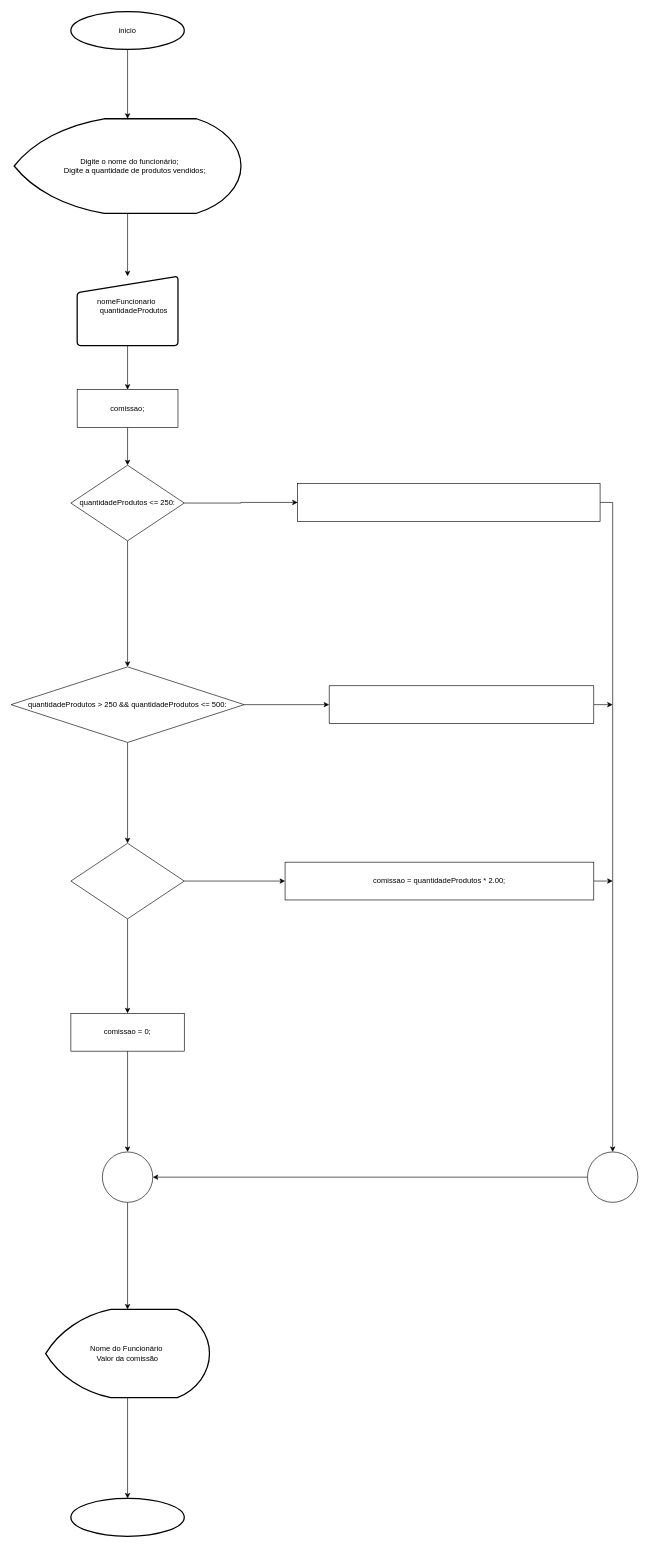
Some shapes in this 649 by 1547 pixel diagram are drawn without their labels. The centre of each missing label's shape, as x and y in pixels:
comissao = quantidadeProdutos * 1.00;: pixel 448 502
comissao = quantidadeProdutos * 1.50;: pixel 461 704
fim: pixel 127 1517
quantidadeProdutos > 500:: pixel 127 881
